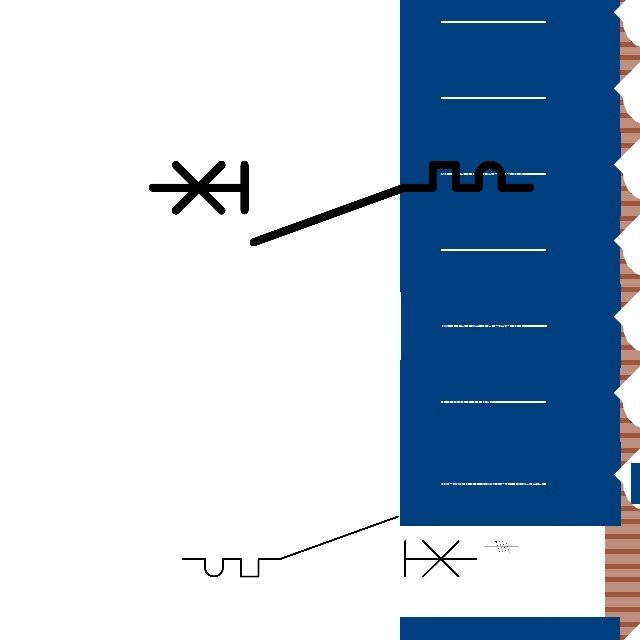interruptor_termomagnetico: (143, 155, 540, 252), (175, 509, 484, 584)
